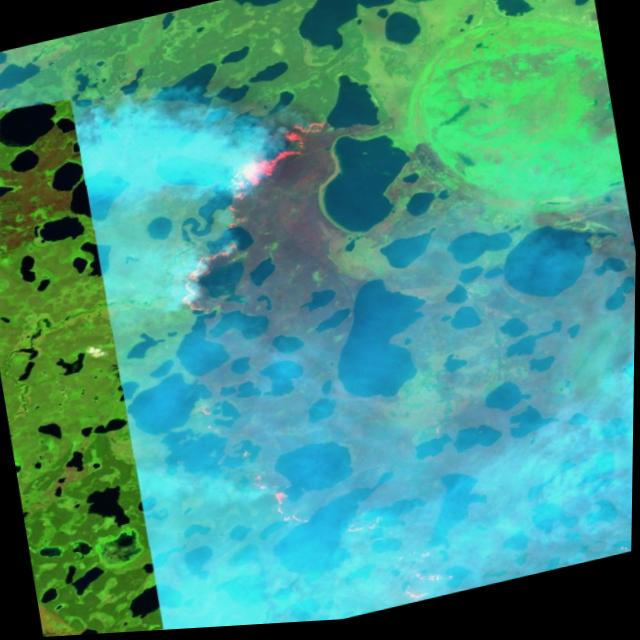fire: (147, 108, 363, 336), (334, 495, 472, 622), (234, 457, 325, 557)
